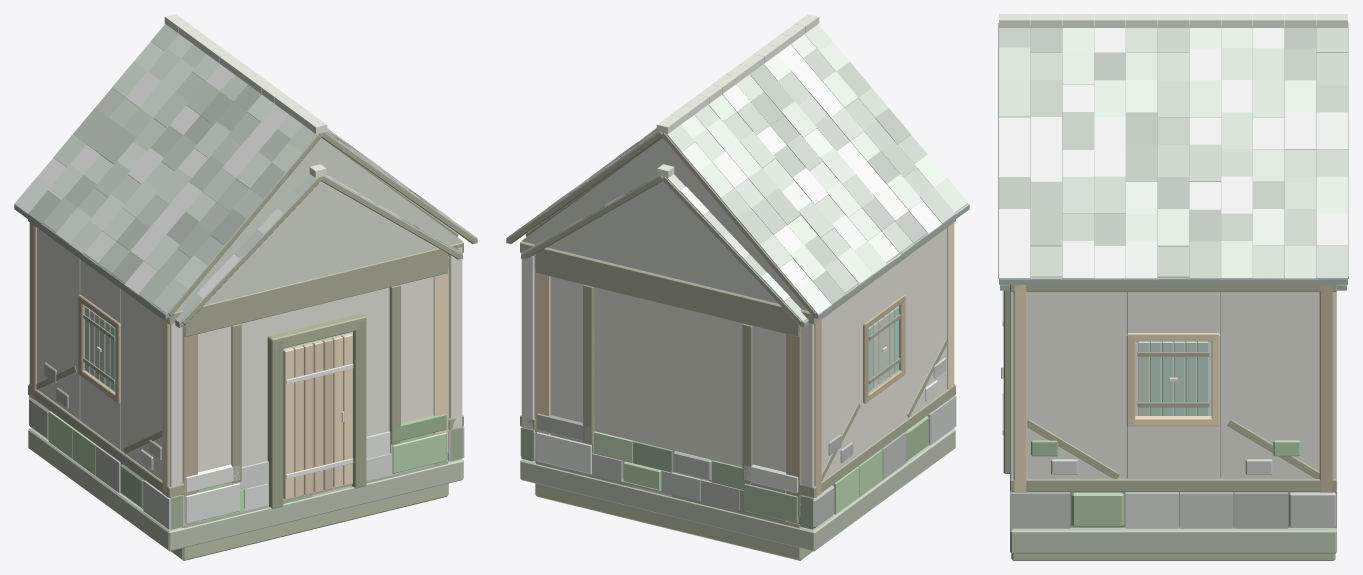
File: kit.glb
3 renders of one model, left to right at view 1: azimuth 30°, elevation 25°; view 2: azimuth 150°, elevation 25°; view 3: azimuth 270°, elevation 25°, orthographic. The views are drawn at different scales.
Visible parts, largest first — view 1: cottage_roof__harbor_teal, haven_hut__aged_timber, cottage_wall_west__haven_plaster, cottage_base__watch_stone, cottage_roof__haven_plaster, cottage_wall_front__aged_timber, cottage_wall_front__haven_plaster, haven_hut__haven_plaster, cottage_wall_west__aged_timber, haven_hut__watch_stone, cottage_roof__aged_timber, cottage_wall_east__haven_plaster (+5 smaller); view 2: cottage_roof__harbor_teal, haven_hut__haven_plaster, cottage_wall_west__haven_plaster, cottage_base__watch_stone, cottage_roof__haven_plaster, haven_hut__watch_stone, cottage_wall_back__aged_timber, cottage_wall_back__haven_plaster, cottage_wall_west__aged_timber, haven_hut__aged_timber, cottage_roof__aged_timber, cottage_wall_east__haven_plaster (+4 smaller); view 3: cottage_roof__harbor_teal, cottage_wall_east__haven_plaster, cottage_base__watch_stone, cottage_wall_east__aged_timber, cottage_wall_east__harbor_teal, haven_hut__watch_stone, cottage_wall_east__watch_stone, haven_hut__aged_timber, cottage_wall_east__recess_shadow, cottage_roof__aged_timber.
Boxes of the visible parts, box(x1,y1,x2,y2) form: cottage_roof__harbor_teal: box(14, 14, 477, 319); haven_hut__aged_timber: box(181, 175, 460, 516); cottage_wall_west__haven_plaster: box(37, 228, 182, 498); cottage_base__watch_stone: box(28, 396, 464, 551); cottage_roof__haven_plaster: box(176, 138, 462, 310); cottage_wall_front__aged_timber: box(184, 247, 448, 483); cottage_wall_front__haven_plaster: box(198, 277, 433, 472); haven_hut__haven_plaster: box(241, 287, 389, 466); cottage_wall_west__aged_timber: box(28, 219, 184, 497); haven_hut__watch_stone: box(171, 418, 449, 560); cottage_roof__aged_timber: box(42, 132, 475, 318); cottage_wall_east__haven_plaster: box(449, 247, 462, 429); cottage_roof__harbor_teal: box(506, 14, 969, 319); haven_hut__haven_plaster: box(594, 287, 742, 481); cottage_wall_west__haven_plaster: box(801, 228, 946, 498); cottage_base__watch_stone: box(520, 395, 956, 551); cottage_roof__haven_plaster: box(521, 138, 807, 310); haven_hut__watch_stone: box(534, 418, 812, 560); cottage_wall_back__aged_timber: box(535, 247, 799, 483); cottage_wall_back__haven_plaster: box(550, 277, 785, 472); cottage_wall_west__aged_timber: box(799, 219, 955, 497); haven_hut__aged_timber: box(523, 175, 808, 516); cottage_roof__aged_timber: box(508, 132, 968, 318); cottage_wall_east__haven_plaster: box(521, 247, 534, 429); cottage_roof__harbor_teal: box(999, 14, 1347, 284); cottage_wall_east__haven_plaster: box(1010, 291, 1336, 479); cottage_base__watch_stone: box(1010, 491, 1336, 553); cottage_wall_east__aged_timber: box(1010, 284, 1336, 492); cottage_wall_east__harbor_teal: box(1138, 341, 1208, 415); haven_hut__watch_stone: box(1011, 553, 1335, 560); cottage_wall_east__watch_stone: box(1031, 440, 1300, 474); haven_hut__aged_timber: box(1003, 290, 1009, 473); cottage_wall_east__recess_shadow: box(1135, 341, 1211, 415); cottage_roof__aged_timber: box(998, 23, 1348, 278).
Size of the model in its own units: 4.8 by 5.99 by 4.05.
